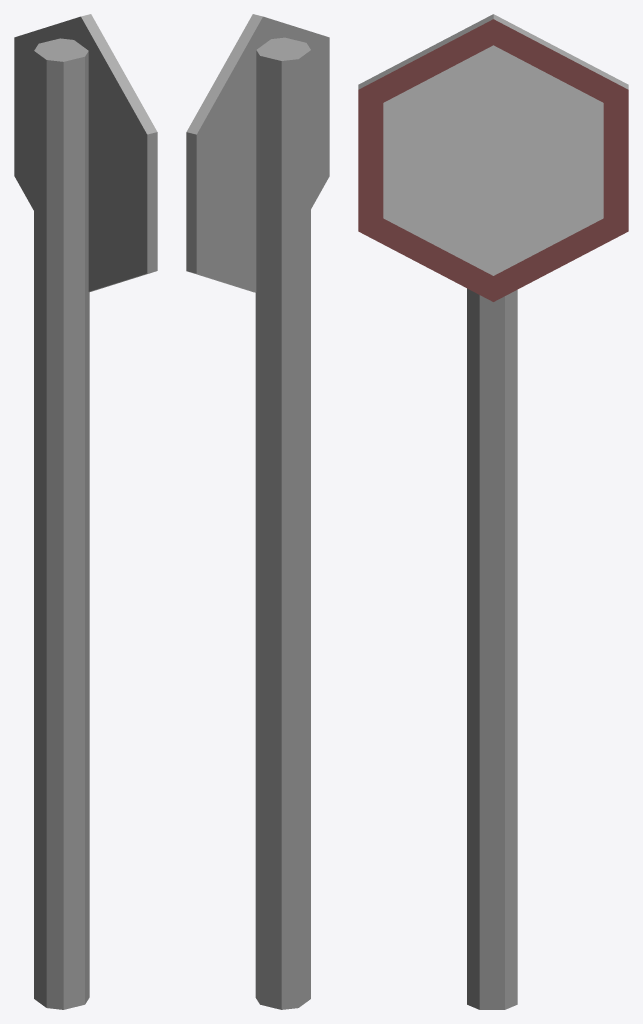
File: street sign.fbx
The picture shows the model from 3 angles, left to right: view 1: azimuth 30°, elevation 25°; view 2: azimuth 150°, elevation 25°; view 3: azimuth 270°, elevation 25°; orthographic projection.
Visible parts, largest first — view 1: polySurface25144; view 2: polySurface25144; view 3: polySurface25144.
Part boxes in pixels (x1,y1,x2,y2): polySurface25144: [14, 14, 157, 1009]; polySurface25144: [186, 14, 329, 1009]; polySurface25144: [358, 14, 628, 1009].
Bounding box in the file's own units: 126 × 2282 × 562.
